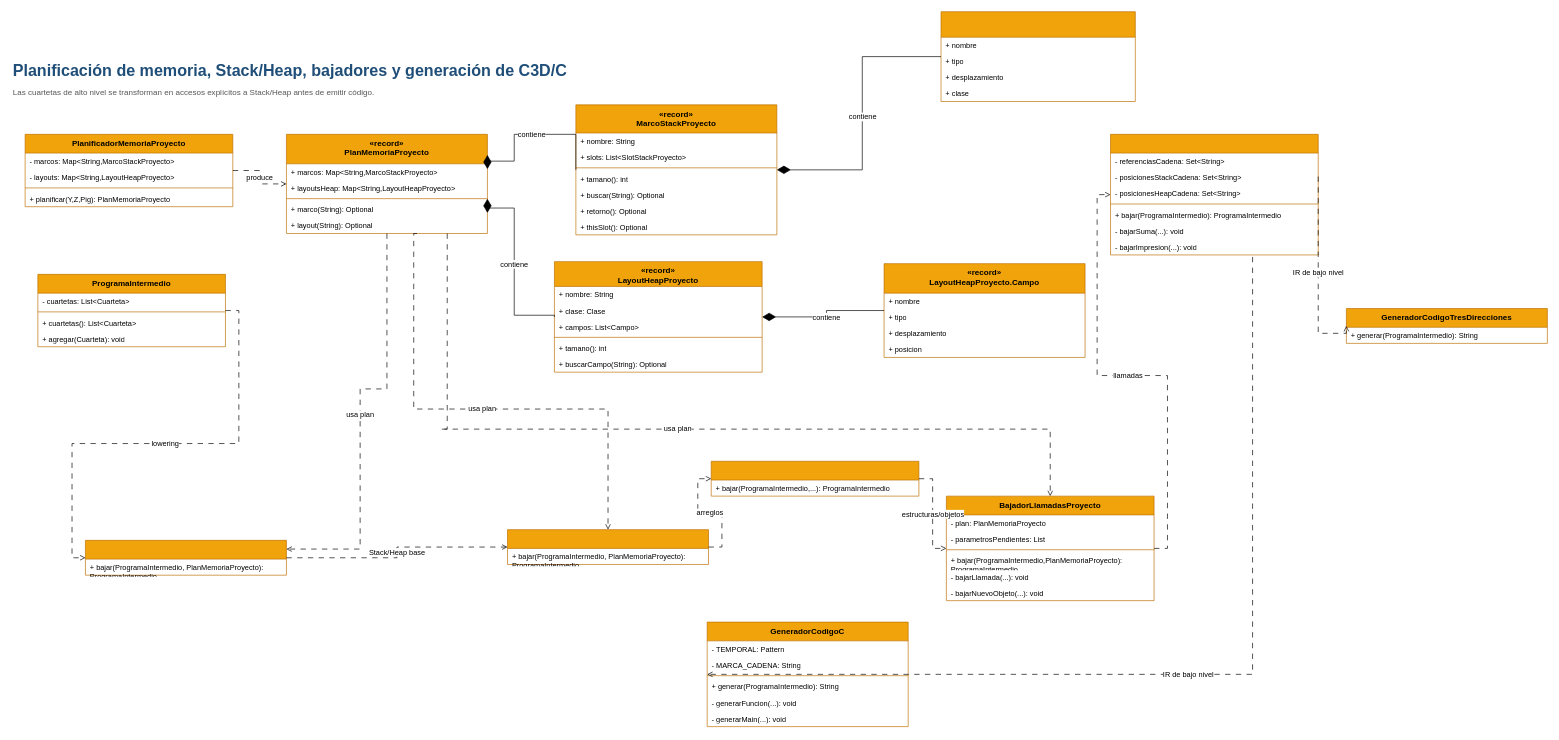
Image size: 1559x740. Some labels were removed from this diagram. Here are the shapes that lost their labels. From the top down, the box of each, then its label:
(940, 11, 1135, 102): «record» SlotStackProyecto
(1110, 134, 1318, 255): BajadorCadenasProyecto
(711, 461, 919, 496): BajadorInicializadoresProyecto
(85, 540, 286, 575): BajadorMemoriaProyecto
(507, 529, 709, 564): BajadorArreglosProyecto
